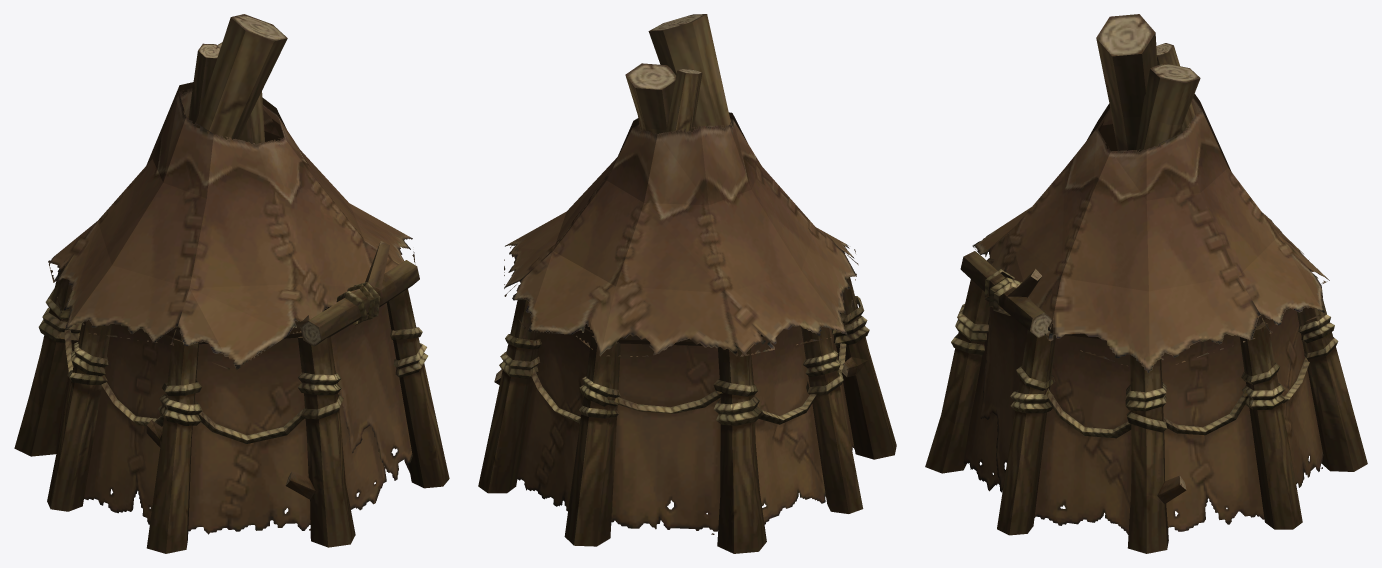
Rendered from sturmby_tent_01.fbx.
The picture shows the model from 3 angles, left to right: view 1: azimuth 30°, elevation 25°; view 2: azimuth 150°, elevation 25°; view 3: azimuth 270°, elevation 25°; orthographic projection.
Parts seen in each view (by area): view 1: obj1.085; view 2: obj1.085; view 3: obj1.085.
Part boxes in pixels (<box>): obj1.085: <box>14,14,449,553</box>; obj1.085: <box>478,14,896,553</box>; obj1.085: <box>925,14,1367,553</box>.
Size of the model in its own units: 8.99 by 10.51 by 9.43.
